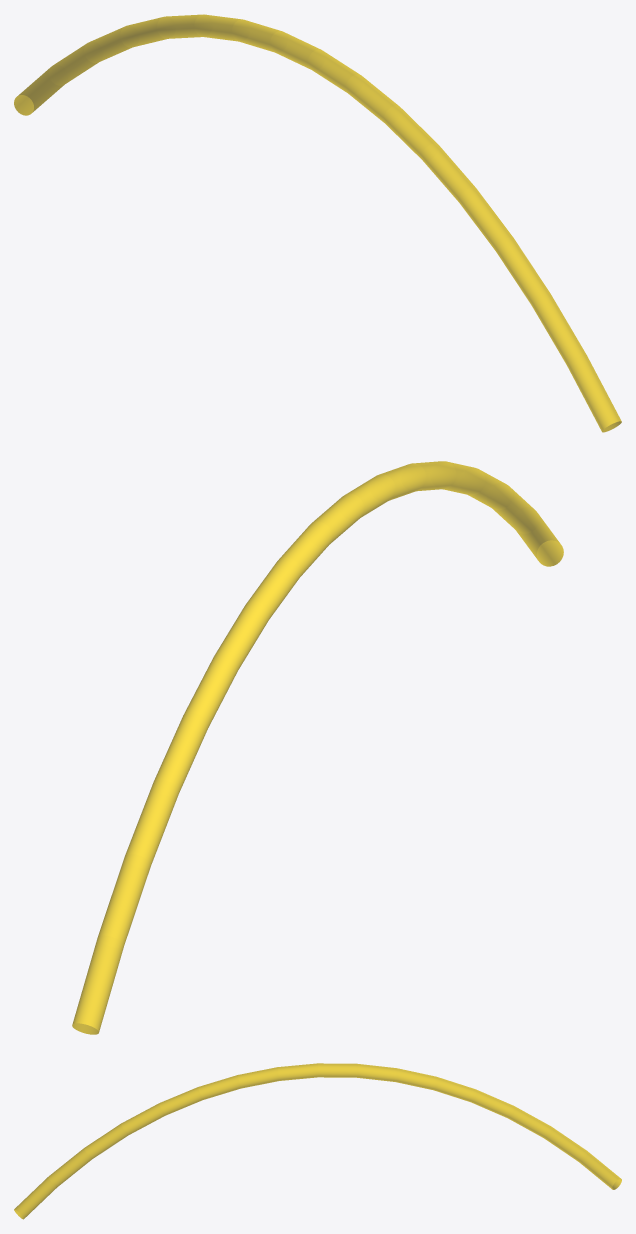
Rendered from Event_17758602_track_172.fbx.
3 renders of one model, top to bottom at view 1: azimuth 30°, elevation 25°; view 2: azimuth 150°, elevation 25°; view 3: azimuth 270°, elevation 25°, orthographic. The views are drawn at different scales.
Parts seen in each view (by area): view 1: Model; view 2: Model; view 3: Model.
Boxes of the visible parts, <box> form: Model: <box>14,14,621,432</box>; Model: <box>72,461,563,1034</box>; Model: <box>14,1063,621,1219</box>.
Bounding box in the file's own units: 0.2593 × 0.4429 × 1.73.
